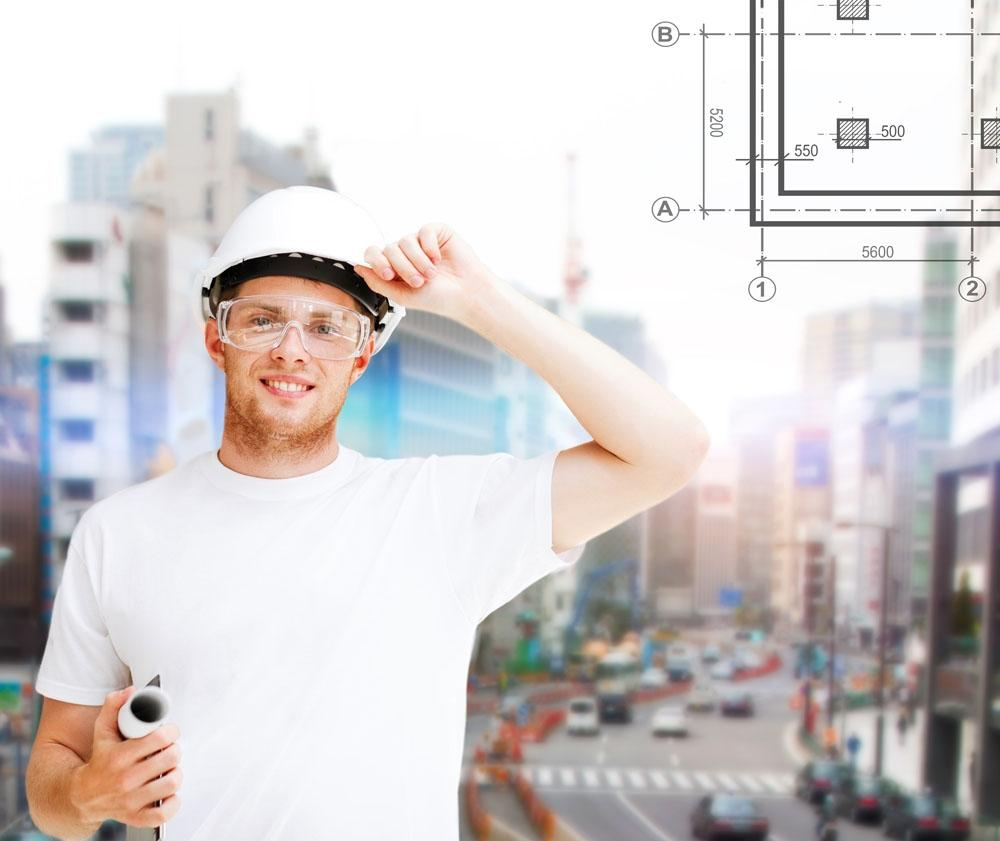helmet: (209, 187, 397, 310)
no_wear: (91, 469, 464, 841)
